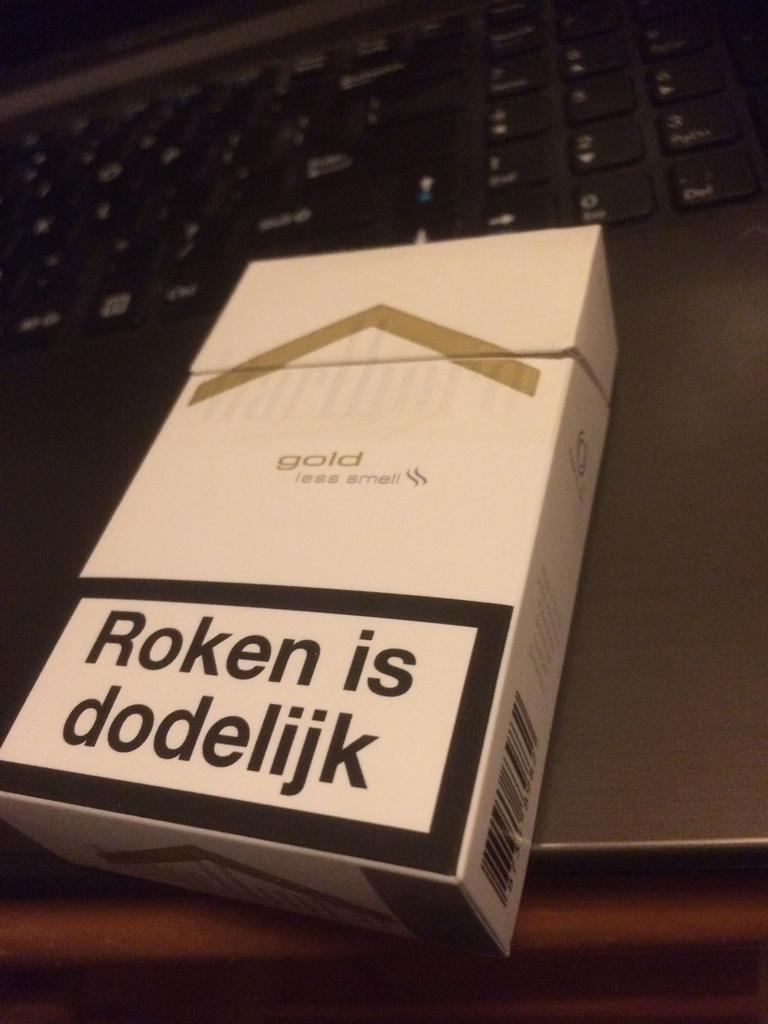marlboro_gold: (165, 245, 571, 825)
